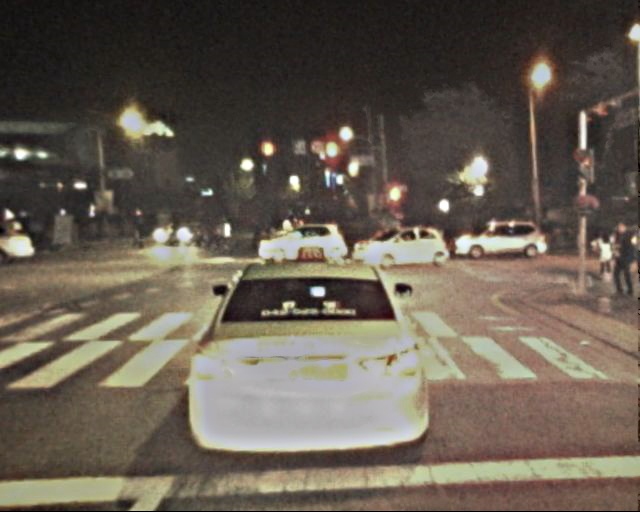person: (604, 221, 634, 293), (591, 229, 613, 282), (197, 221, 227, 246), (259, 216, 275, 254), (247, 220, 260, 252), (134, 218, 147, 249), (175, 219, 188, 250)
